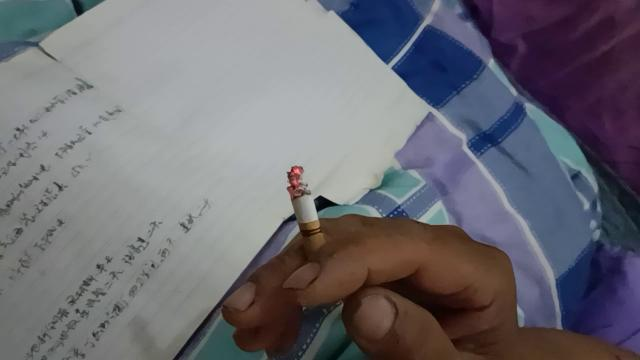Smoking: (288, 165, 334, 285)
